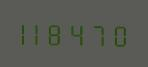eight: (54, 19, 71, 46)
four: (72, 19, 89, 47)
one: (17, 19, 34, 46), (35, 19, 52, 46)
seven: (90, 20, 107, 47)
zero: (108, 20, 125, 47)
